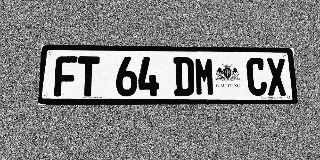4: (138, 57, 159, 96)
6: (116, 57, 137, 96)
C: (246, 58, 267, 96)
D: (173, 57, 194, 96)
F: (54, 56, 77, 96)
M: (194, 57, 215, 96)
T: (77, 56, 100, 96)
X: (266, 58, 287, 96)
